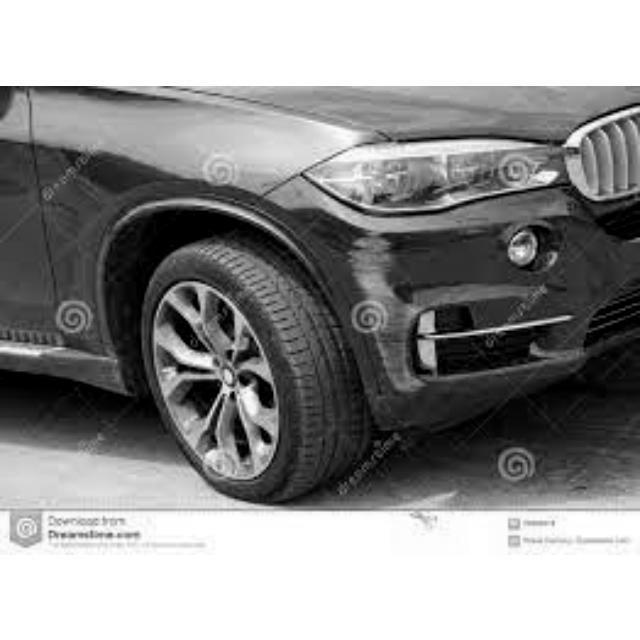front-bumper-dent: (272, 178, 633, 422)
